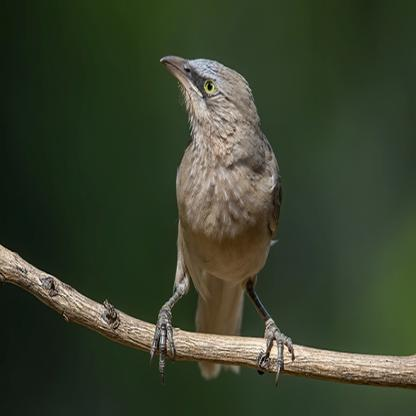Burung: (150, 55, 294, 383)
